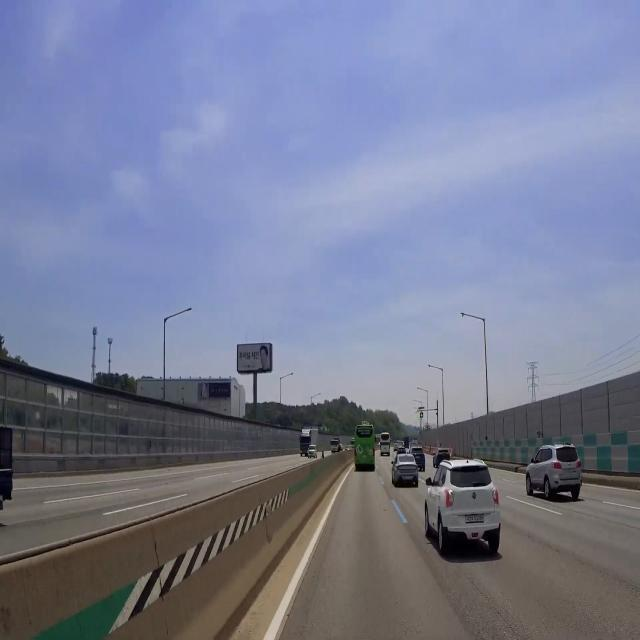car: (463, 509, 486, 529), (560, 467, 578, 480), (403, 474, 416, 483), (360, 453, 369, 462)
